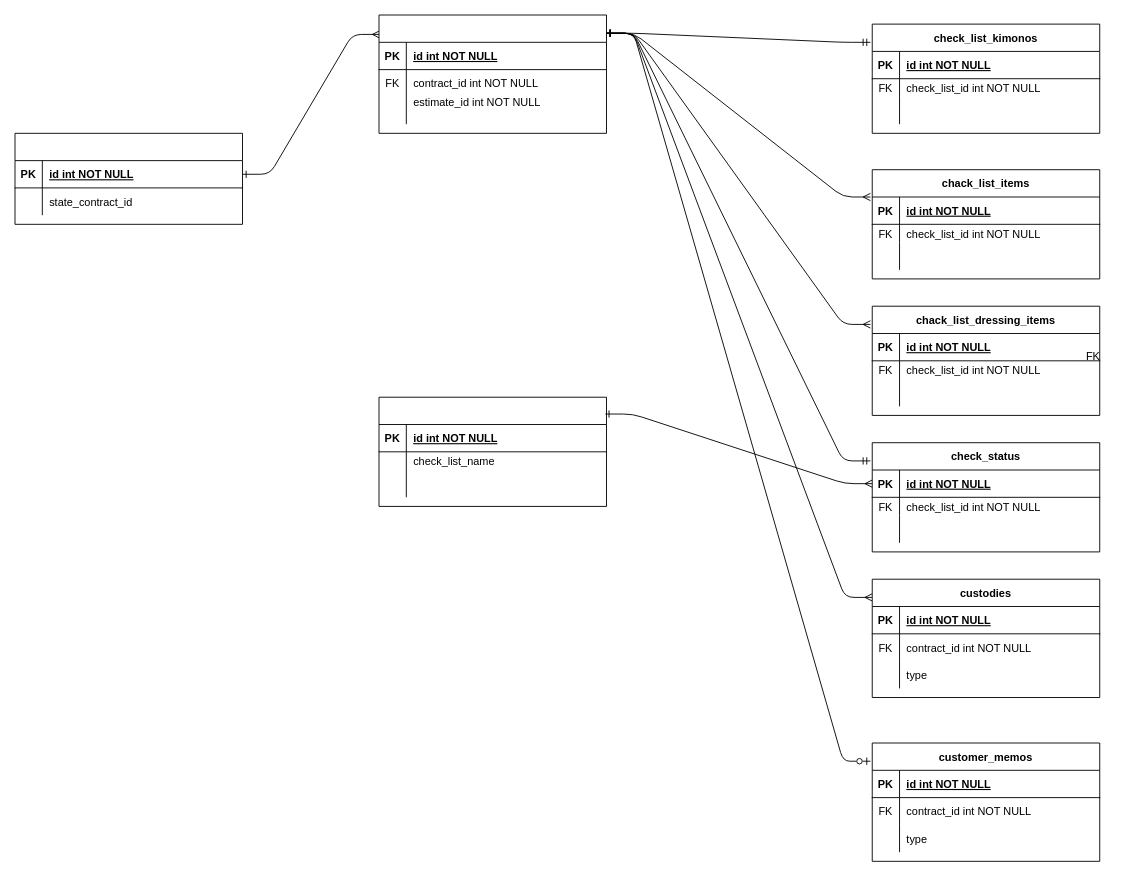
Some shapes in this 1122 by 876 pixel diagram are drawn without their labels. The shapes that lost their labels are listed below. From the top down, each one's box as (x1, y1, x2, y2) in pixels, then its label:
(378, 14, 607, 133): check_list
(14, 132, 243, 224): contracts
(378, 396, 607, 506): master_check_list
